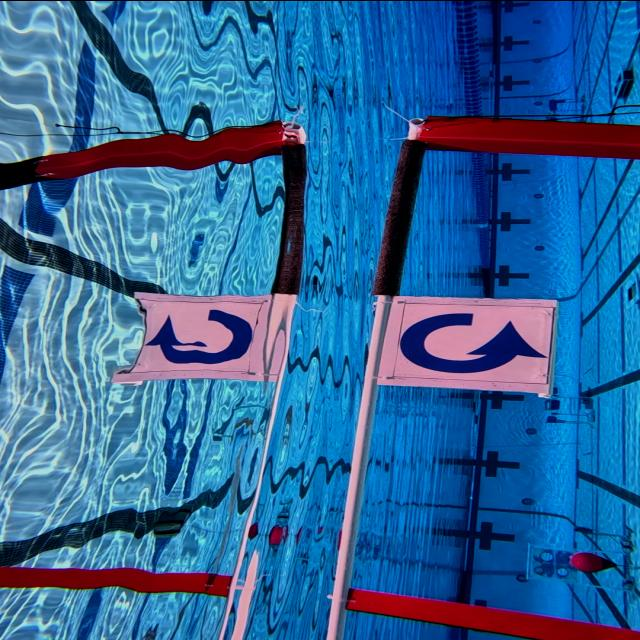blue_side: (372, 295, 570, 396)
